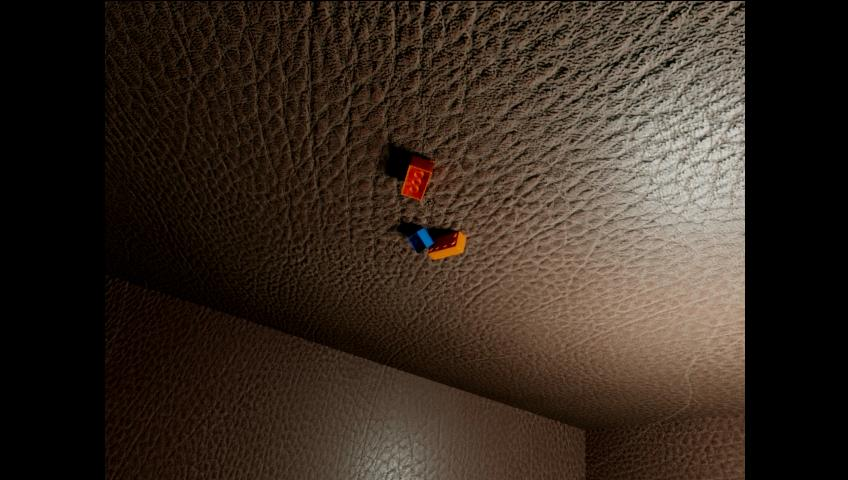2x2_blue: (407, 227, 432, 252)
4x2_orange: (402, 155, 434, 200), (428, 231, 465, 259)
